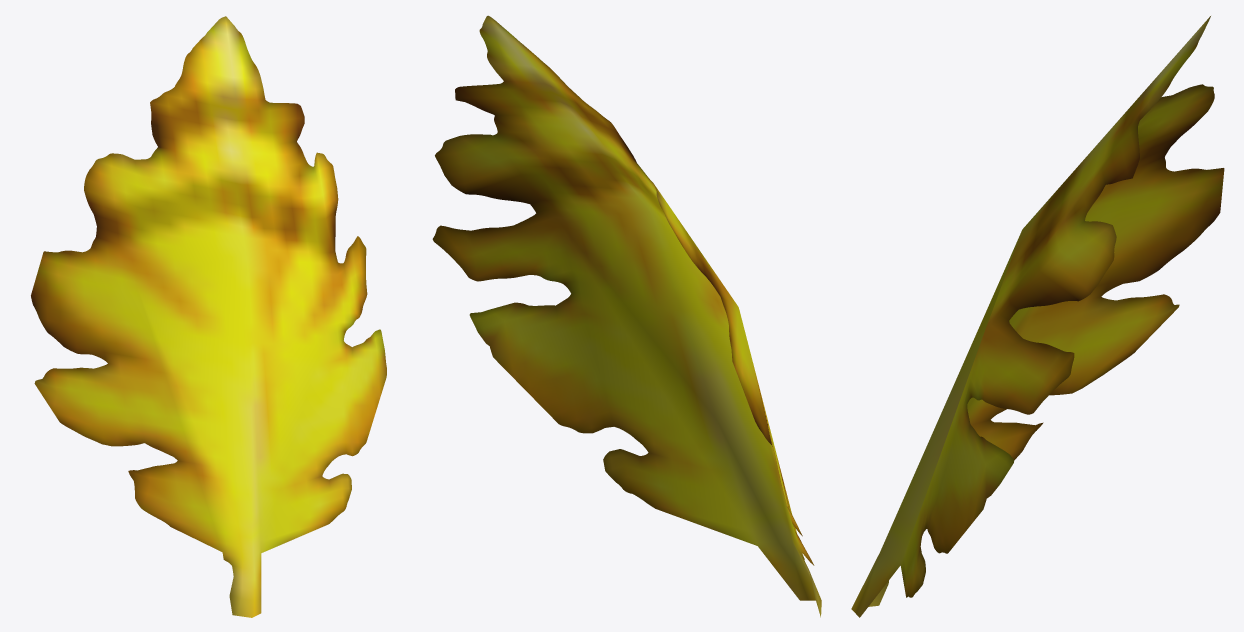
The model's file is Aku_pama.obj.
3 views of the same model, side by side, from view 1: azimuth 30°, elevation 25°; view 2: azimuth 150°, elevation 25°; view 3: azimuth 270°, elevation 25° (orthographic). The views are drawn at different scales.
Visible parts, largest first — view 1: AkuAku.007; view 2: AkuAku.007; view 3: AkuAku.007.
Boxes of the visible parts, x1,y1,x2,y2 form: AkuAku.007: (31, 16, 386, 617); AkuAku.007: (432, 15, 821, 617); AkuAku.007: (851, 16, 1224, 617).
Bounding box in the file's own units: 8.34 × 12.83 × 6.59.
